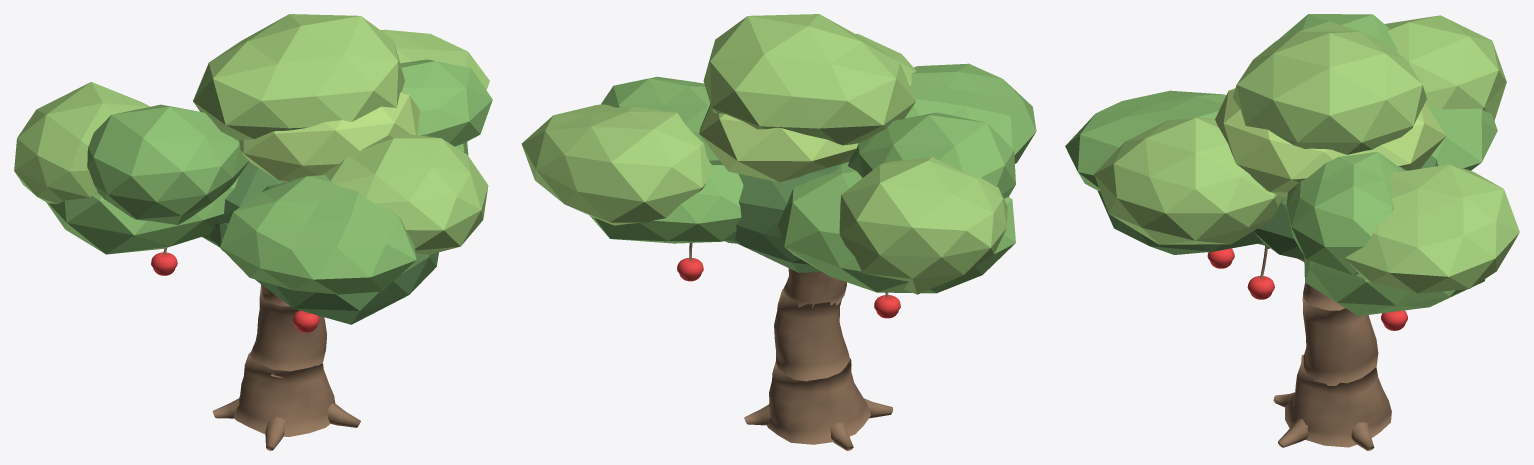
The model's file is apple_tree.glb.
3 renders of one model, left to right at view 1: azimuth 30°, elevation 25°; view 2: azimuth 150°, elevation 25°; view 3: azimuth 270°, elevation 25°, orthographic.
Parts seen in each view (by area): view 1: Foliage_0, Foliage_8, Foliage_6, Foliage_9, Trunk, Foliage_5, Foliage_1, Foliage_7, Foliage_3, Foliage_10, Foliage_2, Foliage_11 (+1 smaller); view 2: Foliage_0, Foliage_2, Foliage_5, Trunk, Foliage_7, Foliage_6, Foliage_8, Foliage_1, Foliage_4, Foliage_11, Foliage_3; view 3: Foliage_0, Foliage_9, Foliage_2, Trunk, Foliage_3, Foliage_5, Foliage_1, Foliage_8, Foliage_4, Foliage_7, Foliage_11, Foliage_6 (+2 smaller).
Part boxes in pixels (box(x1,y1,x2,y2)): Foliage_0: box(193, 14, 404, 140); Foliage_8: box(220, 175, 416, 294); Foliage_6: box(87, 104, 248, 224); Foliage_9: box(322, 133, 488, 254); Trunk: box(212, 284, 360, 450); Foliage_5: box(14, 82, 149, 203); Foliage_1: box(239, 89, 420, 182); Foliage_7: box(46, 176, 238, 254); Foliage_3: box(400, 59, 492, 146); Foliage_10: box(255, 182, 438, 324); Foliage_2: box(381, 29, 489, 89); Foliage_11: box(202, 161, 284, 247); Foliage_0: box(703, 14, 915, 145); Foliage_2: box(521, 104, 711, 225); Foliage_5: box(839, 156, 1007, 294); Trunk: box(744, 268, 893, 450); Foliage_7: box(778, 162, 1015, 293); Foliage_6: box(848, 112, 1015, 198); Foliage_8: box(905, 63, 1036, 163); Foliage_1: box(699, 103, 858, 182); Foliage_4: box(590, 165, 743, 243); Foliage_11: box(729, 163, 844, 272); Foliage_3: box(601, 76, 722, 165); Foliage_0: box(1232, 21, 1426, 154); Foliage_9: box(1094, 117, 1283, 244); Foliage_2: box(1345, 164, 1519, 293); Trunk: box(1273, 258, 1391, 450); Foliage_3: box(1286, 152, 1406, 275); Foliage_5: box(1385, 15, 1506, 120); Foliage_1: box(1215, 88, 1446, 197); Foliage_8: box(1065, 90, 1225, 191); Foliage_4: box(1304, 256, 1485, 316); Foliage_7: box(1427, 105, 1497, 170); Foliage_11: box(1253, 155, 1438, 259); Foliage_6: box(1278, 14, 1397, 51).
Bounding box in the file's own units: 6.33 × 5.16 × 5.33.
